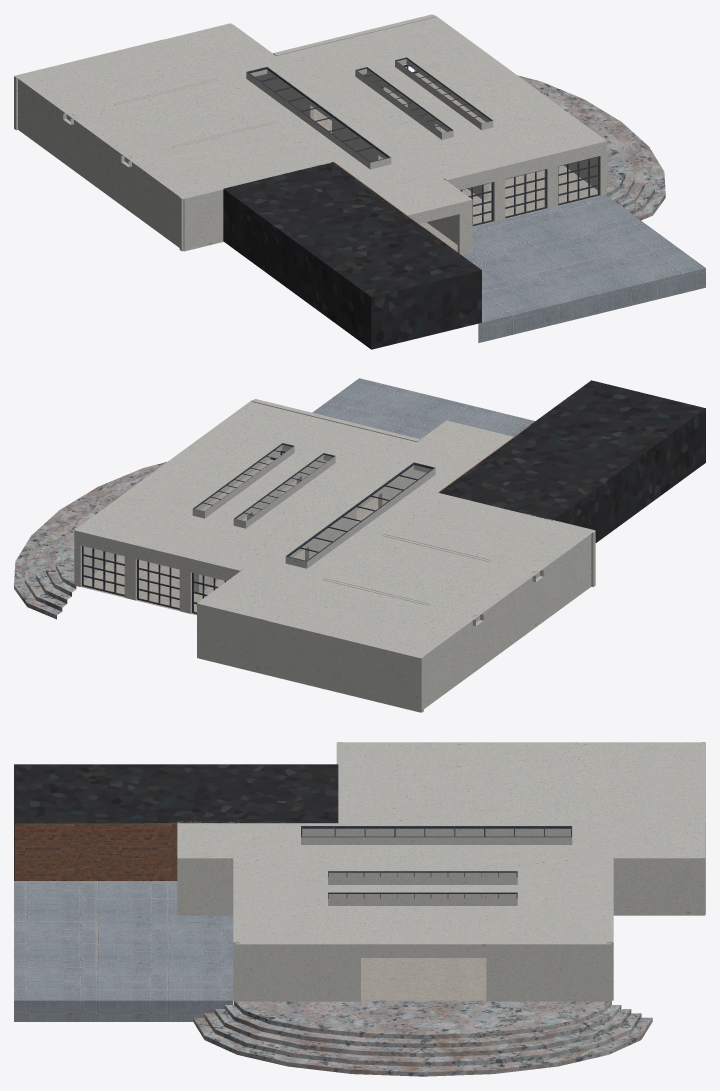
The picture shows the model from 3 angles, top to bottom: view 1: azimuth 30°, elevation 25°; view 2: azimuth 150°, elevation 25°; view 3: azimuth 270°, elevation 25°; orthographic projection. The views are drawn at different scales.
Visible parts, largest first — view 1: Object_3; view 2: Object_3; view 3: Object_3.
Boxes of the visible parts, x1,y1,x2,y2 form: Object_3: (14,14,705,349); Object_3: (14,378,705,712); Object_3: (14,742,705,1076).
Bounding box in the file's own units: 33.57 × 5.29 × 38.28.
1 material, 1 textured.
